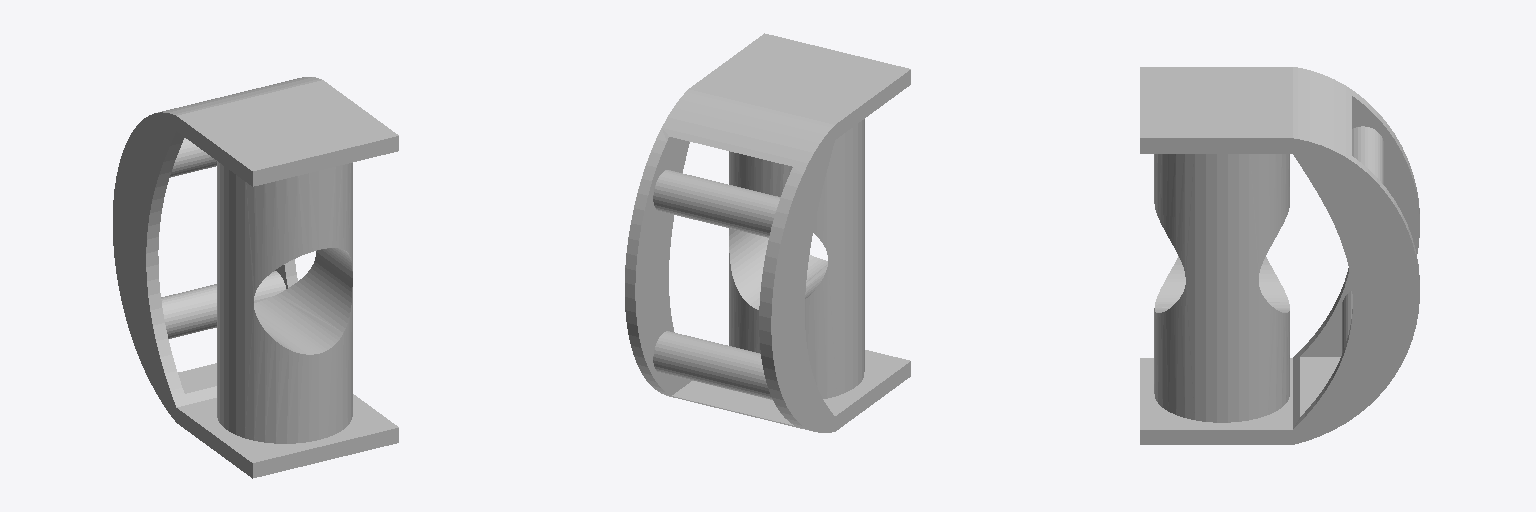
Rendered from viper_R_steer.obj.
3 renders of one model, left to right at view 1: azimuth 30°, elevation 25°; view 2: azimuth 150°, elevation 25°; view 3: azimuth 270°, elevation 25°, orthographic.
Visible parts, largest first — view 1: viper_R_steer; view 2: viper_R_steer; view 3: viper_R_steer.
Boxes of the visible parts, <box> form: viper_R_steer: <box>113,77,398,478</box>; viper_R_steer: <box>625,33,910,432</box>; viper_R_steer: <box>1140,67,1419,444</box>.
Size of the model in its own units: 0.1 by 0.2 by 0.1652.